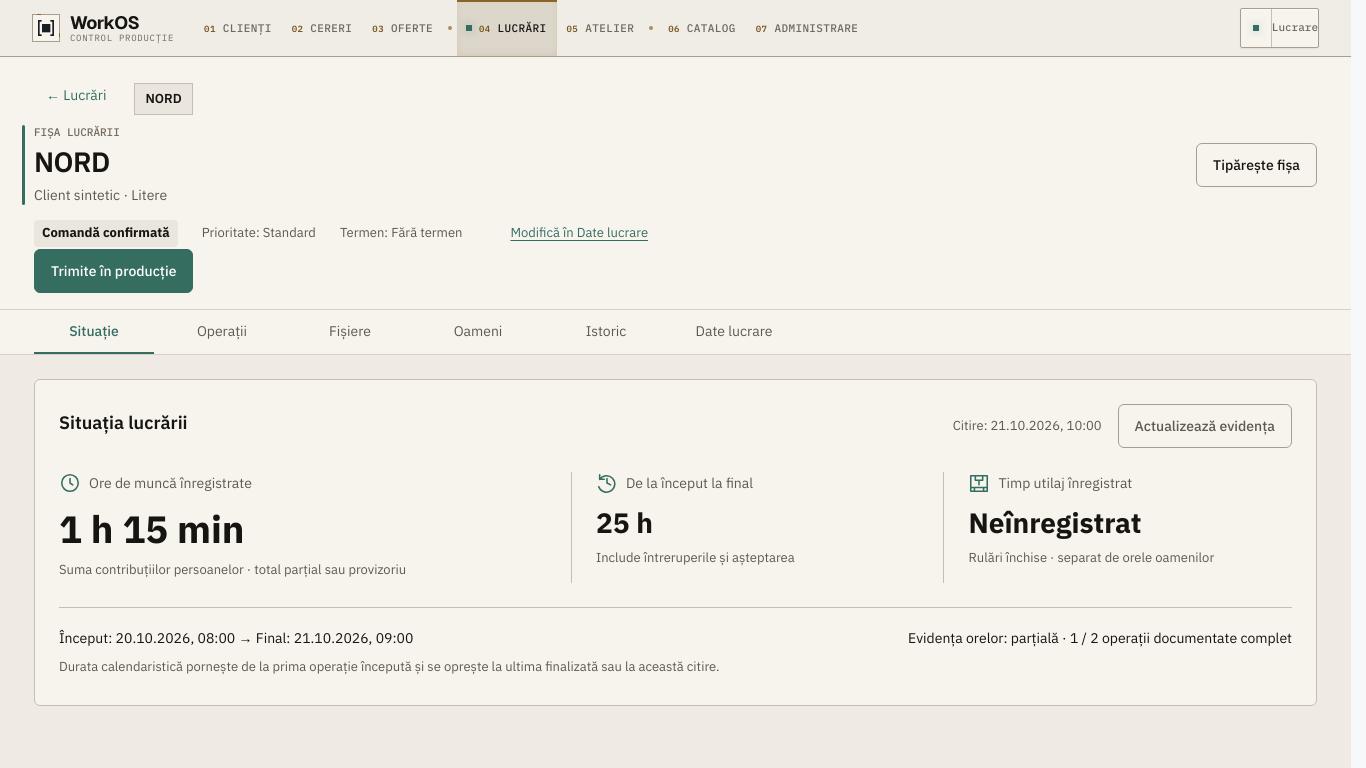
Test: simplified production journey › keeps the sheet actionable after a refusal or unconfirmed result: Lucrarea nu a putut fi trimisă în producție.
Click the button "Trimite în producție" at (114, 271), box [34,249,193,293]
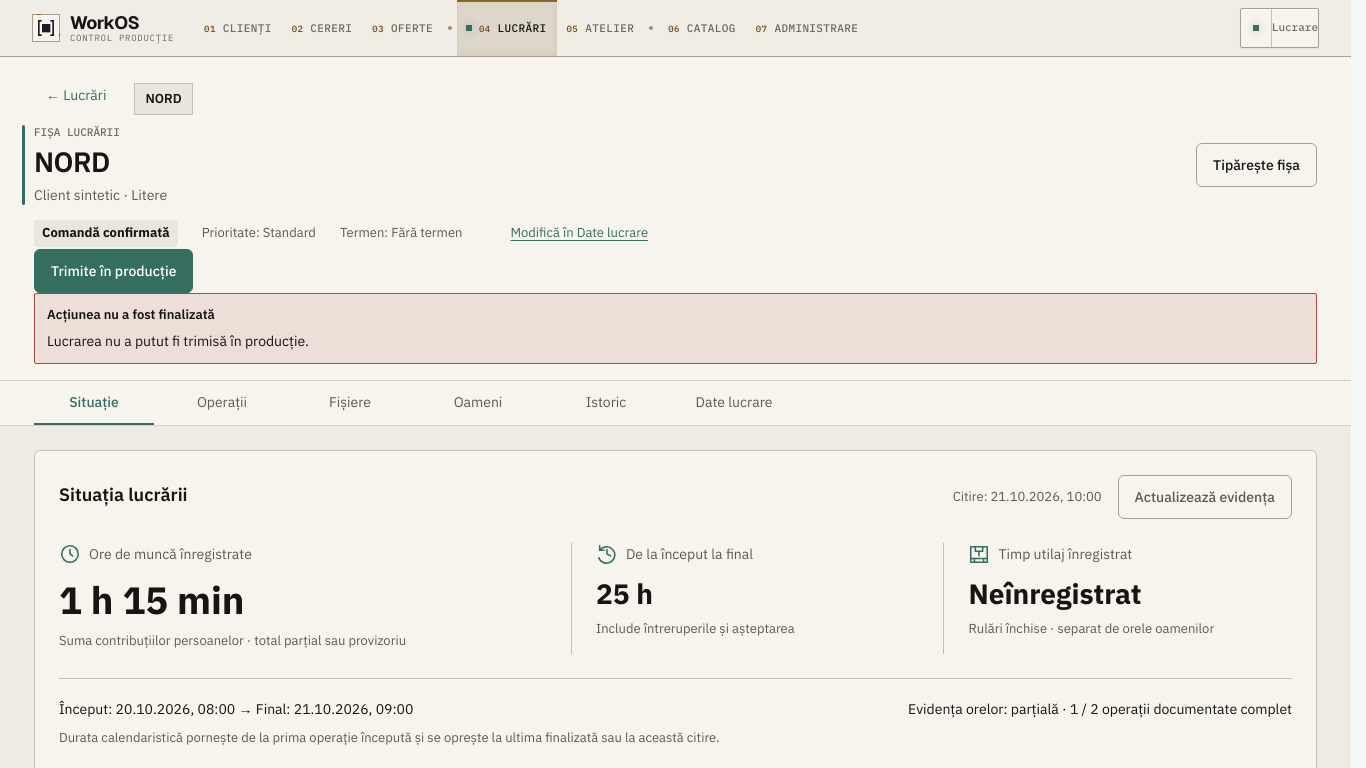
expect the message shows "Lucrarea nu a putut fi trimisă în producție.": met, box [47,332,309,350]
